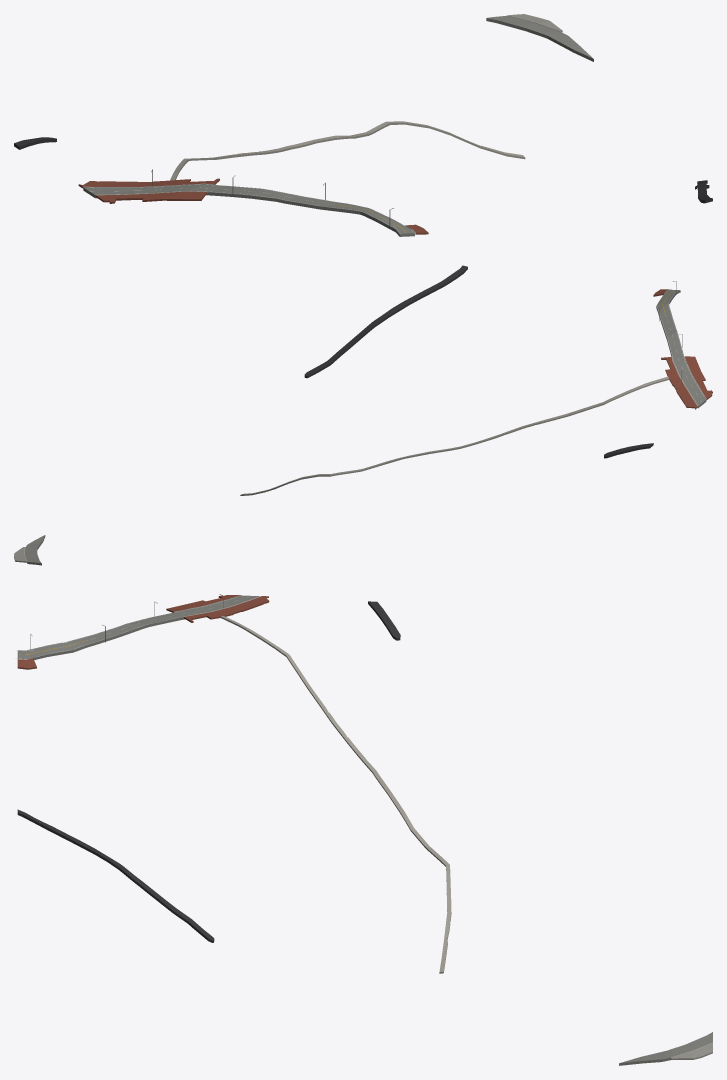
The picture shows the model from 3 angles, top to bottom: view 1: azimuth 30°, elevation 25°; view 2: azimuth 150°, elevation 25°; view 3: azimuth 270°, elevation 25°; orthographic projection. The views are drawn at different scales.
Bounding box in the file's own units: 293 × 95 × 293.
